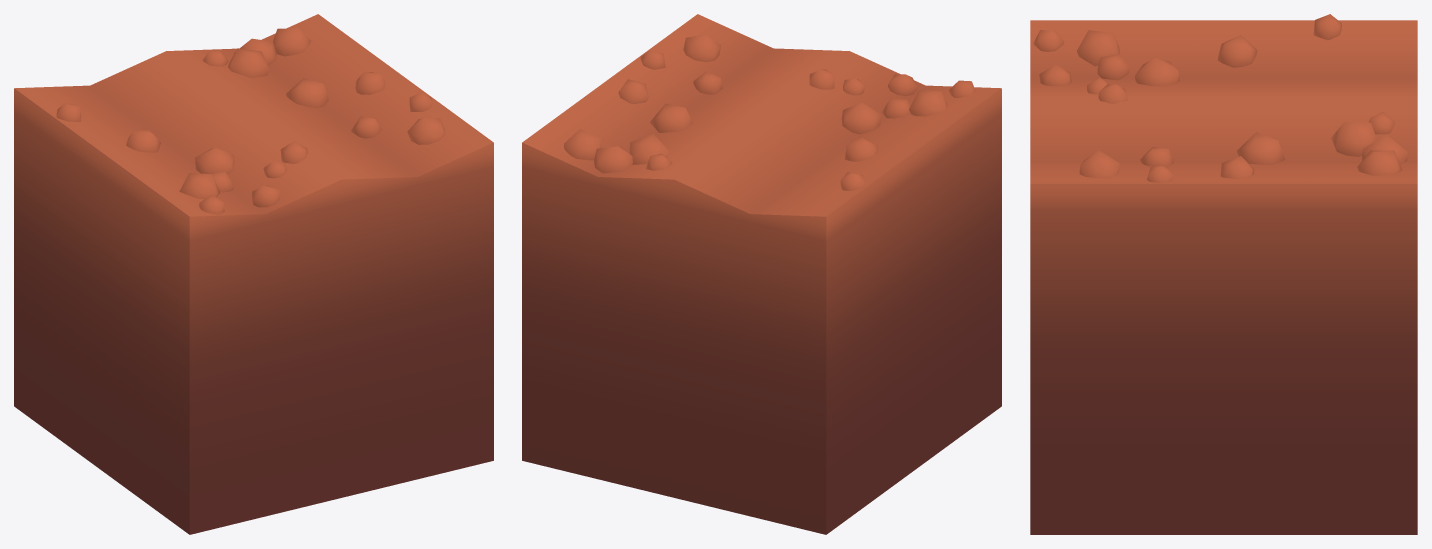
File: farmland.glb
3 renders of one model, left to right at view 1: azimuth 30°, elevation 25°; view 2: azimuth 150°, elevation 25°; view 3: azimuth 270°, elevation 25°, orthographic. The views are drawn at different scales.
Parts seen in each view (by area): view 1: farmland; view 2: farmland; view 3: farmland.
Boxes of the visible parts, <box> form: farmland: <box>14,14,493,534</box>; farmland: <box>522,14,1001,534</box>; farmland: <box>1030,14,1417,534</box>.
Bounding box in the file's own units: 1 × 1.04 × 1.
Materials: 1 (1 with a texture image).
